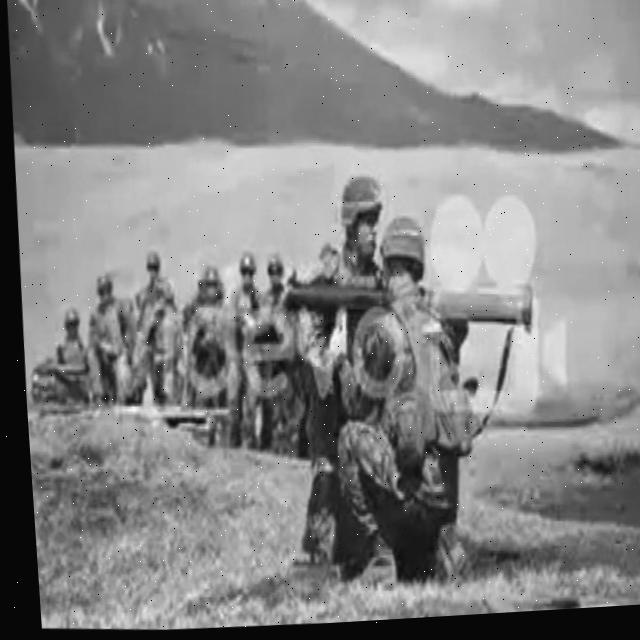rocket: (275, 268, 528, 346)
